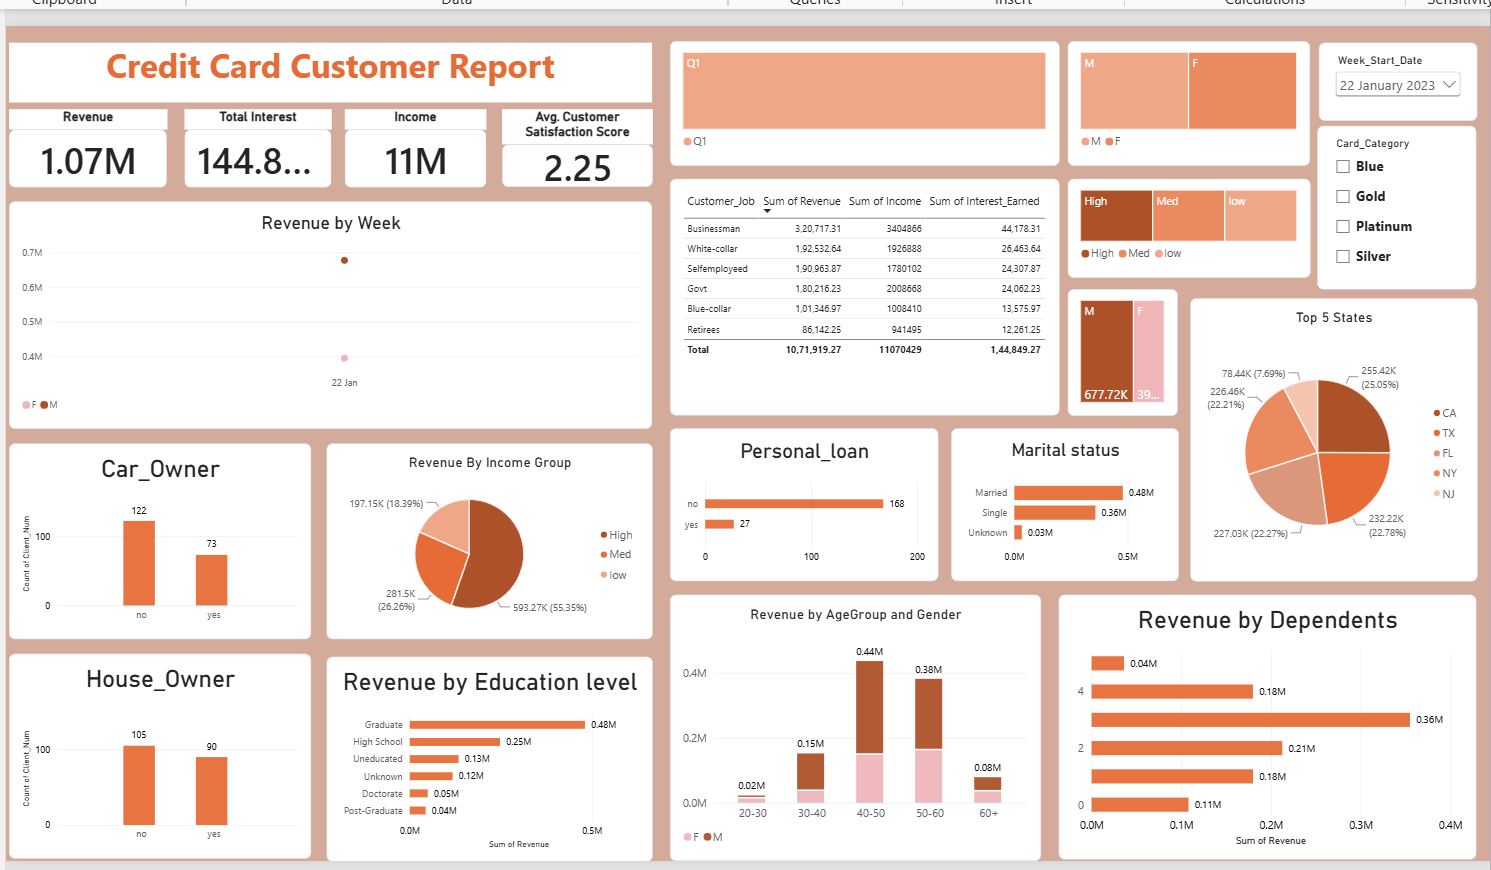

Layout of this report page (visuals, bound fields, positions):
{"tool":"powerbi","page":{"name":"CC Customer","canvas":[1920,1080],"ordinal":2},"visuals":[{"type":"barChart","title":"Revenue by Education level ","fields":{"Y":["Sum(credit_card.Revenue)"],"Category":["customer.Education_Level"]},"box":[414.6,814.8,421.9,265.2],"z":0},{"type":"slicer","fields":{"Values":["credit_card.Week_Start_Date"]},"box":[1697.2,21.7,204.9,101.3],"z":1000},{"type":"treemap","fields":{"Group":["credit_card.Qtr"],"Values":["Avg(credit_card.Client_Num)"]},"box":[858.2,19.3,503.8,161.5],"z":2000},{"type":"treemap","fields":{"Group":["customer.Gender"],"Values":["Avg(credit_card.Client_Num)"]},"box":[1374.1,19.3,313.4,161.5],"z":3000},{"type":"treemap","fields":{"Values":["Avg(credit_card.Client_Num)"],"Group":["customer.IncomeGroup"]},"box":[1373.1,197.6,313.7,128.3],"z":4000},{"type":"slicer","fields":{"Values":["credit_card.Card_Category"]},"box":[1697,128.3,205.8,211.9],"z":5000},{"type":"textbox","box":[4.8,21.7,831.7,77.1],"z":6000},{"type":"cardVisual","title":"Revenue","fields":{"Data":["Sum(credit_card.Revenue)"]},"box":[4.8,108.5,204.9,101.3],"z":7000},{"type":"cardVisual","title":"Total Interest","fields":{"Data":["Sum(credit_card.Interest_Earned)"]},"box":[231.4,108.5,190.4,101.3],"z":8000},{"type":"cardVisual","title":"Income","fields":{"Data":["Sum(customer.Income)"]},"box":[438.8,108.5,183.2,101.3],"z":9000},{"type":"cardVisual","title":"Avg. Customer Satisfaction Score","fields":{"Data":["Avg(customer.Cust_Satisfaction_Score)"]},"box":[641.3,108.5,195.2,101.2],"z":10000},{"type":"lineChart","title":"Revenue by Week","fields":{"Y":["Sum(credit_card.Revenue)"],"Series":["customer.Gender"],"Category":["credit_card.Week_Start_Date.Variation.Date Hierarchy.Year","credit_card.Week_Start_Date.Variation.Date Hierarchy.Quarter","credit_card.Week_Start_Date.Variation.Date Hierarchy.Month","credit_card.Week_Start_Date.Variation.Date Hierarchy.Day"]},"box":[4.8,226.6,831.7,294.1],"z":11000},{"type":"treemap","fields":{"Group":["customer.Gender"],"Values":["Sum(credit_card.Revenue)"]},"box":[1374.1,339.9,142.2,163.9],"z":12000},{"type":"columnChart","title":"Car_Owner","fields":{"Category":["customer.Car_Owner"],"Y":["CountNonNull(credit_card.Client_Num)"]},"box":[4.8,540,390.5,253.1],"z":13000},{"type":"columnChart","title":"House_Owner","fields":{"Category":["customer.House_Owner"],"Y":["CountNonNull(credit_card.Client_Num)"]},"box":[4.8,812.4,390.5,265.2],"z":14000},{"type":"pieChart","title":" Revenue By Income Group","fields":{"Category":["customer.IncomeGroup"],"Y":["Sum(credit_card.Revenue)"]},"box":[414.6,540,421.9,253.1],"z":15000},{"type":"columnChart","title":"Revenue by AgeGroup and Gender","fields":{"Category":["customer.AgeGroup"],"Y":["Sum(credit_card.Revenue)"],"Series":["customer.Gender"]},"box":[858.2,735.3,479.7,344.7],"z":16000},{"type":"barChart","title":"Personal_loan","fields":{"Category":["customer.Personal_loan"],"Y":["CountNonNull(credit_card.Client_Num)"]},"box":[858.2,520.7,347.1,197.7],"z":17000},{"type":"barChart","title":"Revenue by Dependents","fields":{"Y":["Sum(credit_card.Revenue)"],"Category":["customer.Dependent_Count"]},"box":[1362.1,735.3,540,342.3],"z":18000},{"type":"pieChart","title":"Top 5 States","fields":{"Category":["customer.state_cd"],"Y":["Sum(credit_card.Revenue)"]},"box":[1530.8,352,371.3,366.4],"z":19000},{"type":"barChart","title":" Marital status","fields":{"Y":["Sum(credit_card.Total_Trans_Amt)"],"Category":["customer.Marital_Status"]},"box":[1222.2,520.7,294.1,197.7],"z":20000},{"type":"tableEx","fields":{"Values":["customer.Customer_Job","Sum(credit_card.Revenue)","Sum(customer.Income)","Sum(credit_card.Interest_Earned)"]},"box":[858.2,197.7,503.8,306.2],"z":21000}]}

Visuals, with their boxes in screenshot pixels (x1, y1, x2, y2):
"Revenue by Education level " barChart: {"left": 329, "top": 651, "right": 652, "bottom": 854}
slicer - credit_card.Week_Start_Date: {"left": 1311, "top": 44, "right": 1468, "bottom": 121}
treemap - credit_card.Qtr x Avg(credit_card.Client_Num): {"left": 669, "top": 42, "right": 1055, "bottom": 166}
treemap - customer.Gender x Avg(credit_card.Client_Num): {"left": 1064, "top": 42, "right": 1304, "bottom": 166}
treemap - Avg(credit_card.Client_Num) x customer.IncomeGroup: {"left": 1063, "top": 179, "right": 1303, "bottom": 277}
slicer - credit_card.Card_Category: {"left": 1311, "top": 125, "right": 1469, "bottom": 288}
textbox: {"left": 15, "top": 44, "right": 652, "bottom": 103}
"Revenue" cardVisual: {"left": 15, "top": 110, "right": 172, "bottom": 188}
"Total Interest" cardVisual: {"left": 189, "top": 110, "right": 335, "bottom": 188}
"Income" cardVisual: {"left": 348, "top": 110, "right": 488, "bottom": 188}
"Avg. Customer Satisfaction Score" cardVisual: {"left": 503, "top": 110, "right": 652, "bottom": 188}
"Revenue by Week" lineChart: {"left": 15, "top": 201, "right": 652, "bottom": 426}
treemap - customer.Gender x Sum(credit_card.Revenue): {"left": 1064, "top": 287, "right": 1173, "bottom": 413}
"Car_Owner" columnChart: {"left": 15, "top": 441, "right": 314, "bottom": 635}
"House_Owner" columnChart: {"left": 15, "top": 649, "right": 314, "bottom": 852}
" Revenue By Income Group" pieChart: {"left": 329, "top": 441, "right": 652, "bottom": 635}
"Revenue by AgeGroup and Gender" columnChart: {"left": 669, "top": 590, "right": 1036, "bottom": 854}
"Personal_loan" barChart: {"left": 669, "top": 426, "right": 935, "bottom": 577}
"Revenue by Dependents" barChart: {"left": 1055, "top": 590, "right": 1468, "bottom": 852}
"Top 5 States" pieChart: {"left": 1184, "top": 297, "right": 1468, "bottom": 577}
" Marital status" barChart: {"left": 948, "top": 426, "right": 1173, "bottom": 577}
tableEx - customer.Customer_Job x Sum(credit_card.Revenue): {"left": 669, "top": 179, "right": 1055, "bottom": 413}
